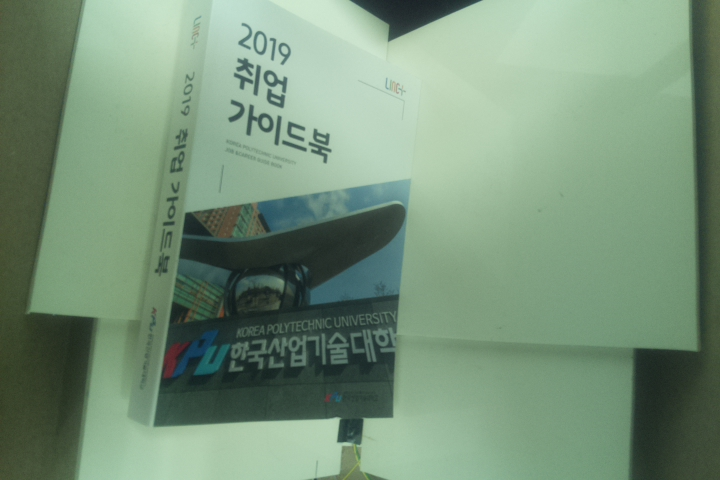book: (123, 1, 425, 429)
